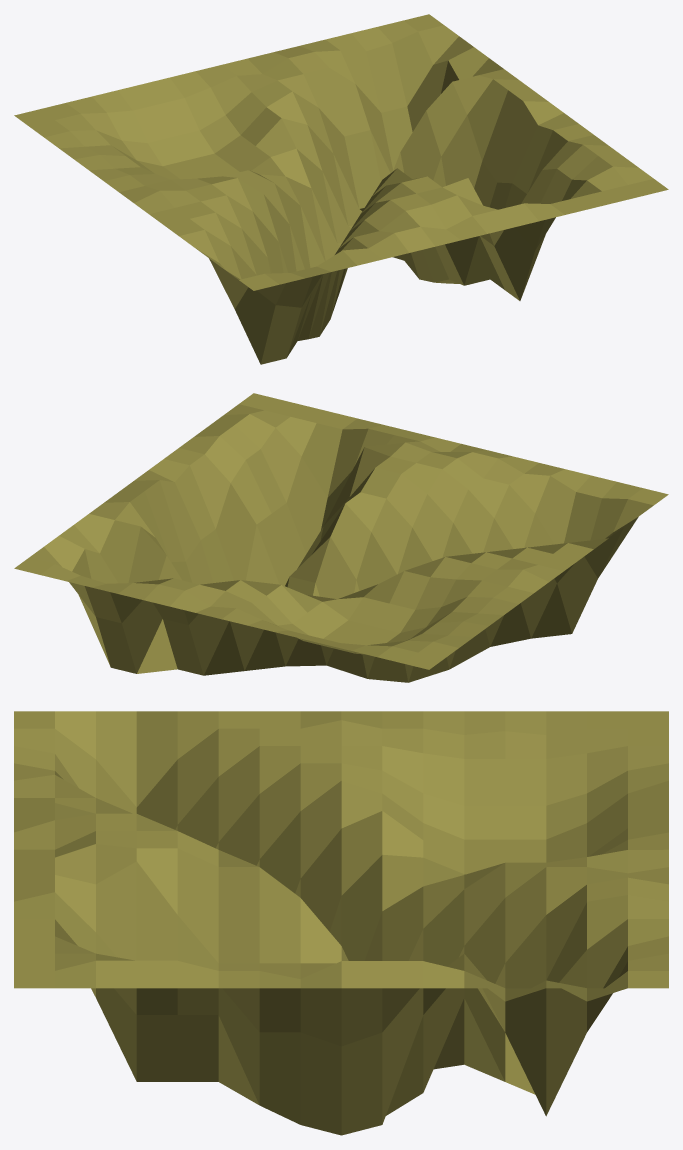
File: Terrain_25_Yellow.fbx
3 views of the same model, one above another, from view 1: azimuth 30°, elevation 25°; view 2: azimuth 150°, elevation 25°; view 3: azimuth 270°, elevation 25° (orthographic). The views are drawn at different scales.
Parts seen in each view (by area): view 1: Terrain_25_Yellow; view 2: Terrain_25_Yellow; view 3: Terrain_25_Yellow.
Part boxes in pixels (x1=…): Terrain_25_Yellow: x1=14, y1=14, x2=668, y2=364; Terrain_25_Yellow: x1=14, y1=393, x2=668, y2=682; Terrain_25_Yellow: x1=14, y1=711, x2=668, y2=1135.
Size of the model in its own units: 5000 by 1992 by 5000.
